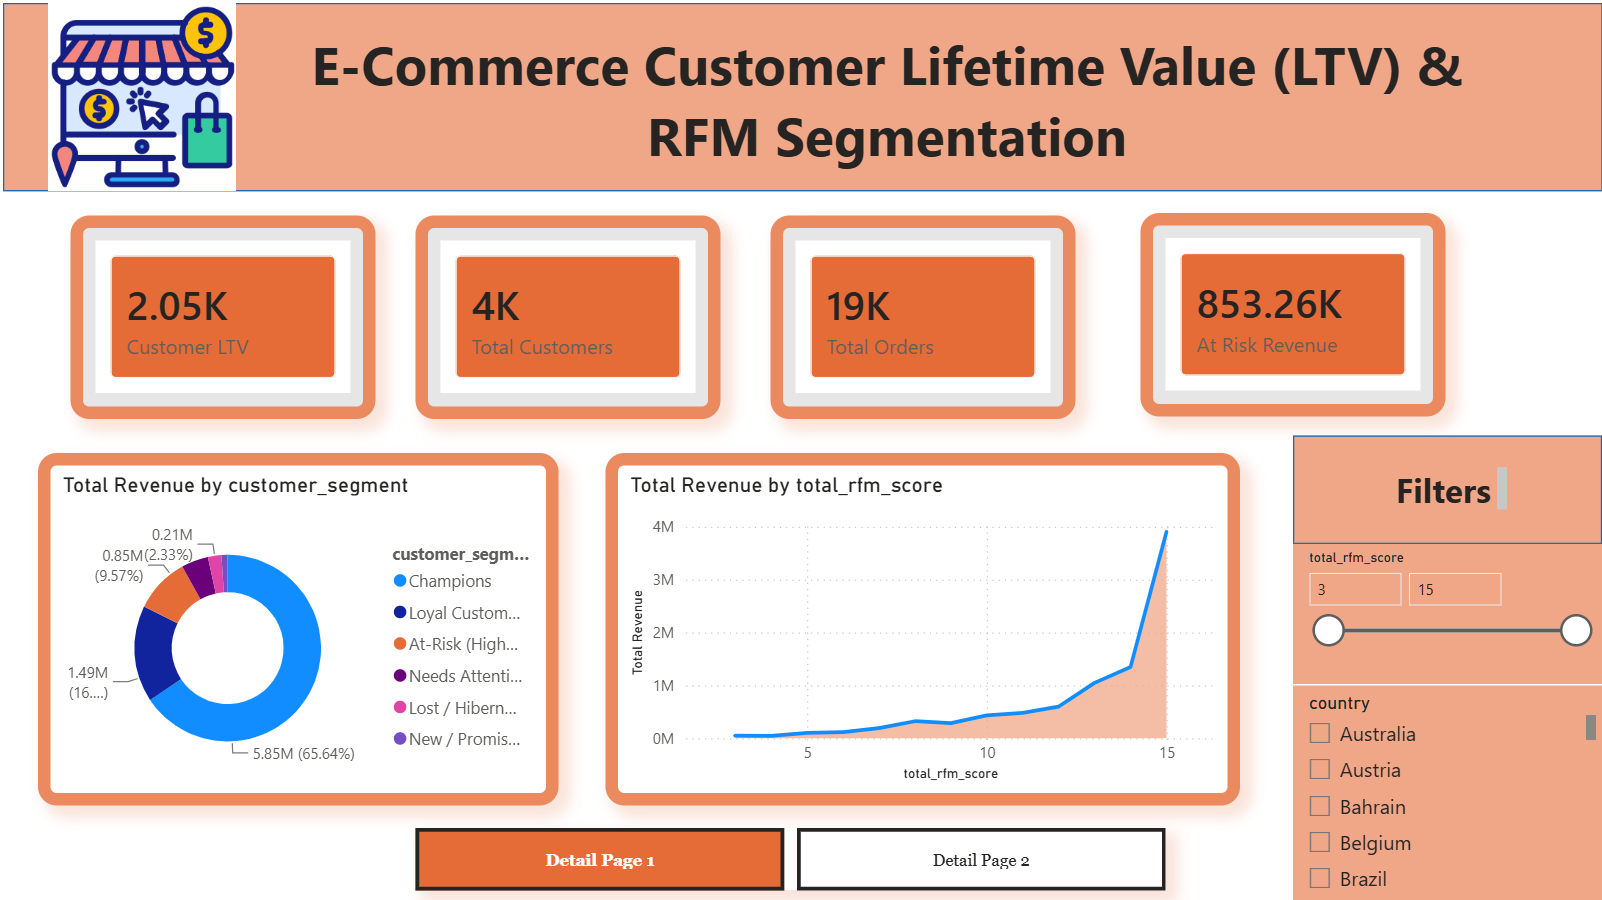

The dashboard page shown, as its layout file describes it:
{"tool":"powerbi","page":{"name":"Page 1","canvas":[1280,720],"ordinal":0},"visuals":[{"type":"cardVisual","fields":{"Data":["_Measures.Total Revenue"]},"box":[2.9,52.8,435.3,221.2],"z":0,"group":"g2"},{"type":"pivotTable","fields":{"Rows":["Dim_Customer.customerid","Dim_Customer.customer_segment"],"Values":["_Measures.Customer LTV","Min(Dim_Customer.lastpurchasedate)","Sum(Fact_Sales.totalamount)"]},"box":[0,279.2,529.4,441],"z":0,"group":"g1"},{"type":"cardVisual","fields":{"Data":["_Measures.Customer LTV"]},"box":[419.5,50.6,446.8,228.5],"z":1000,"group":"g2"},{"type":"group","id":"g1","title":"Customer Detail View","box":[0,279.1,1279.7,441],"z":1000},{"type":"slicer","fields":{"Values":["Dim_Customer.country"]},"box":[441.2,279.2,380.3,440.9],"z":1000,"group":"g1"},{"type":"bookmarkNavigator","box":[0,0,600,50],"z":2000},{"type":"cardVisual","fields":{"Data":["_Measures.YoY Revenue Growth %"]},"box":[826.4,52.8,453.3,221.9],"z":2000,"group":"g2"},{"type":"slicer","fields":{"Values":["Dim_Customer.total_rfm_score"]},"box":[843.9,279.1,435.9,440.9],"z":2000,"group":"g1"},{"type":"group","id":"g2","title":"Main","box":[2.9,50.6,1276.8,228.5],"z":3000}]}

Visuals, with their boxes in screenshot pixels (x1, y1, x2, y2), scaled from the page's 1280x720 canvas onto the 1602x900 screenshot:
cardVisual - _Measures.Total Revenue: box(4, 66, 548, 342)
pivotTable - Dim_Customer.customerid x Dim_Customer.customer_segment: box(0, 349, 663, 899)
cardVisual - _Measures.Customer LTV: box(525, 63, 1084, 349)
"Customer Detail View" group: box(0, 349, 1601, 899)
slicer - Dim_Customer.country: box(552, 349, 1028, 899)
bookmarkNavigator: box(0, 0, 751, 62)
cardVisual - _Measures.YoY Revenue Growth %: box(1034, 66, 1601, 343)
slicer - Dim_Customer.total_rfm_score: box(1056, 349, 1601, 899)
"Main" group: box(4, 63, 1601, 349)
